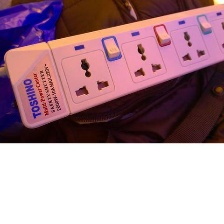three_eye_plug: (2, 0, 224, 131)
